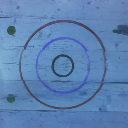Axe Tip: (119, 30, 128, 32)
